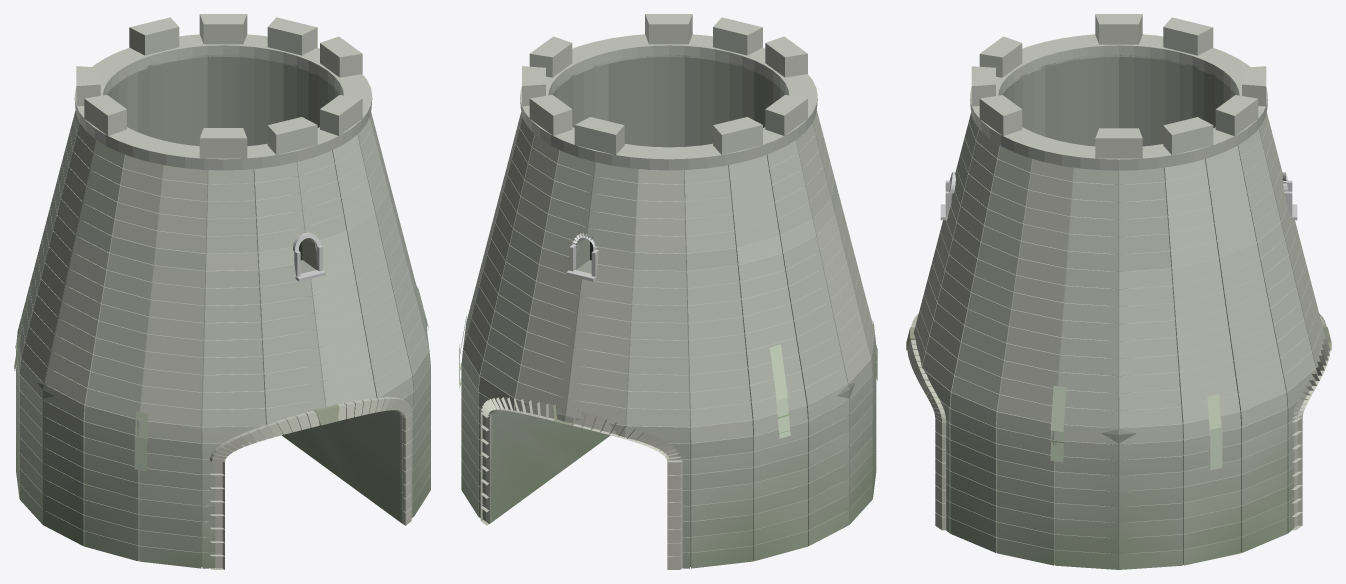
File: watchtower.glb
The picture shows the model from 3 angles, left to right: view 1: azimuth 30°, elevation 25°; view 2: azimuth 150°, elevation 25°; view 3: azimuth 270°, elevation 25°; orthographic projection.
Parts seen in each view (by area): view 1: watchtower_drum_concrete, watchtower_drum_jungle, watchtower_crenellations_nine_of_twelve, watchtower_crown_cornice, watchtower_back_arch_voussoirs, watchtower_ivy_strands, watchtower_back_arched_window; view 2: watchtower_drum_concrete, watchtower_drum_jungle, watchtower_crenellations_nine_of_twelve, watchtower_crown_cornice, watchtower_front_arch_voussoirs, watchtower_ivy_strands, watchtower_front_arched_window; view 3: watchtower_drum_concrete, watchtower_drum_jungle, watchtower_crenellations_nine_of_twelve, watchtower_crown_cornice, watchtower_back_arch_voussoirs, watchtower_ivy_strands, watchtower_front_arch_voussoirs.
Boxes of the visible parts, x1,y1,x2,y2 form: watchtower_drum_concrete: (17,55,429,431); watchtower_drum_jungle: (16,332,430,568); watchtower_crenellations_nine_of_twelve: (76,14,362,158); watchtower_crown_cornice: (74,34,372,170); watchtower_back_arch_voussoirs: (209,397,411,569); watchtower_ivy_strands: (14,282,428,471); watchtower_back_arched_window: (293,232,325,281); watchtower_drum_concrete: (463,55,874,437); watchtower_drum_jungle: (461,333,876,568); watchtower_crenellations_nine_of_twelve: (522,14,807,154); watchtower_crown_cornice: (520,34,817,170); watchtower_front_arch_voussoirs: (480,397,682,569); watchtower_ivy_strands: (459,316,877,438); watchtower_front_arched_window: (566,233,598,281); watchtower_drum_concrete: (913,55,1325,434); watchtower_drum_jungle: (924,360,1319,569); watchtower_crenellations_nine_of_twelve: (971,14,1266,158); watchtower_crown_cornice: (970,34,1267,170); watchtower_back_arch_voussoirs: (907,314,946,530); watchtower_ivy_strands: (1050,385,1222,470); watchtower_front_arch_voussoirs: (1292,314,1330,530).
Size of the model in its own units: 28 by 30 by 28.5.
